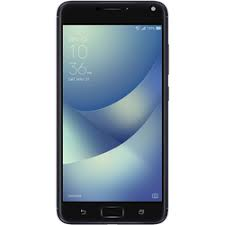asus: (52, 1, 172, 225)
